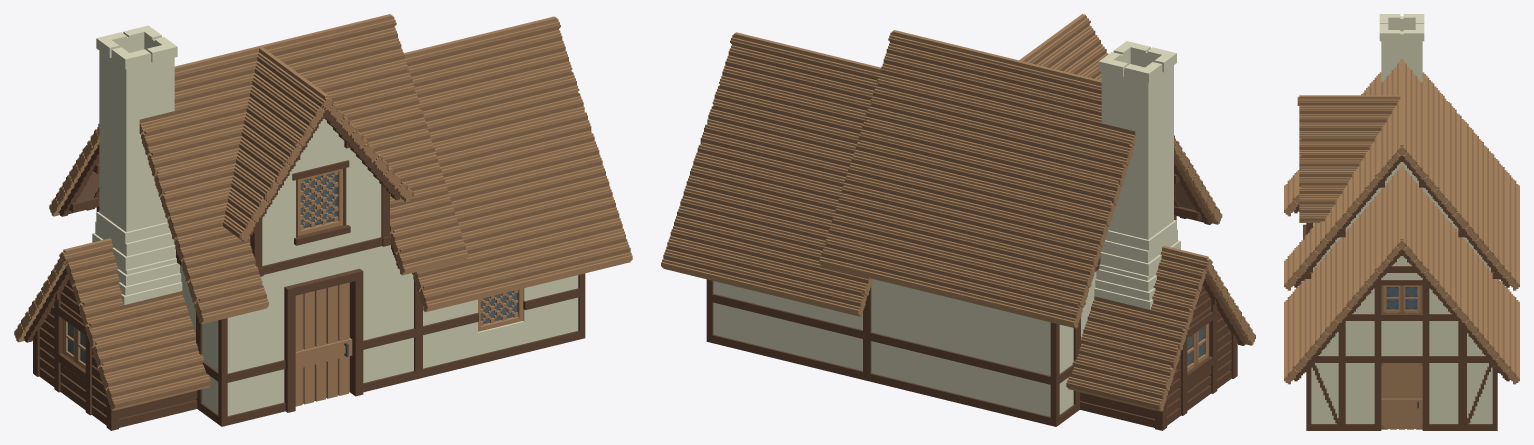
File: sweets_shop0.obj
The picture shows the model from 3 angles, left to right: view 1: azimuth 30°, elevation 25°; view 2: azimuth 150°, elevation 25°; view 3: azimuth 270°, elevation 25°; orthographic projection. The views are drawn at different scales.
Size of the model in its own units: 25.6 by 17 by 13.8.
1 material, 1 textured.
